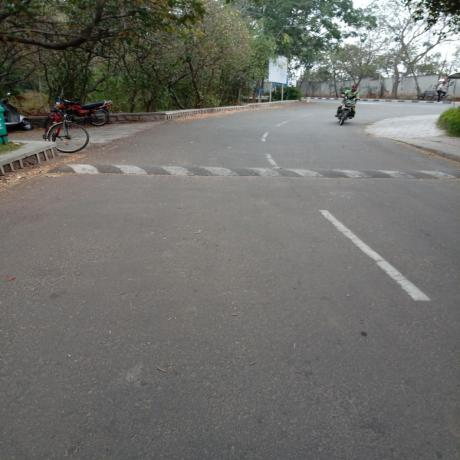Speed Bump: (36, 164, 459, 182)
